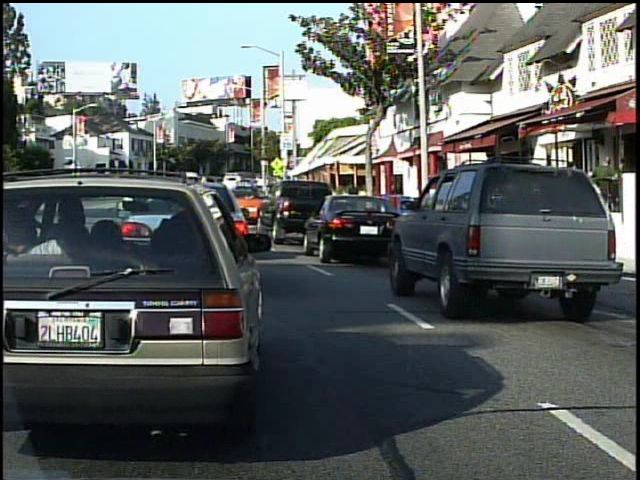person: (588, 150, 622, 237)
